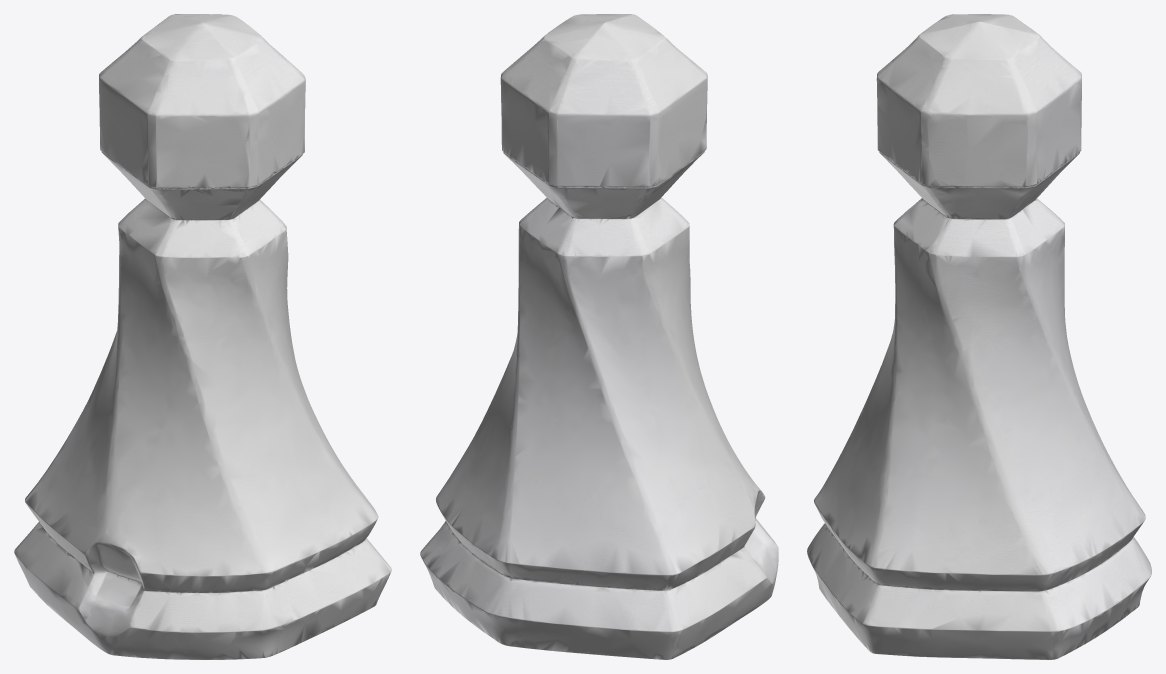
Rendered from pawn-white-hd.glb.
3 renders of one model, left to right at view 1: azimuth 30°, elevation 25°; view 2: azimuth 150°, elevation 25°; view 3: azimuth 270°, elevation 25°, orthographic.
Bounding box in the file's own units: 0.5022 × 0.95 × 0.5174.
1 material, 1 textured.
